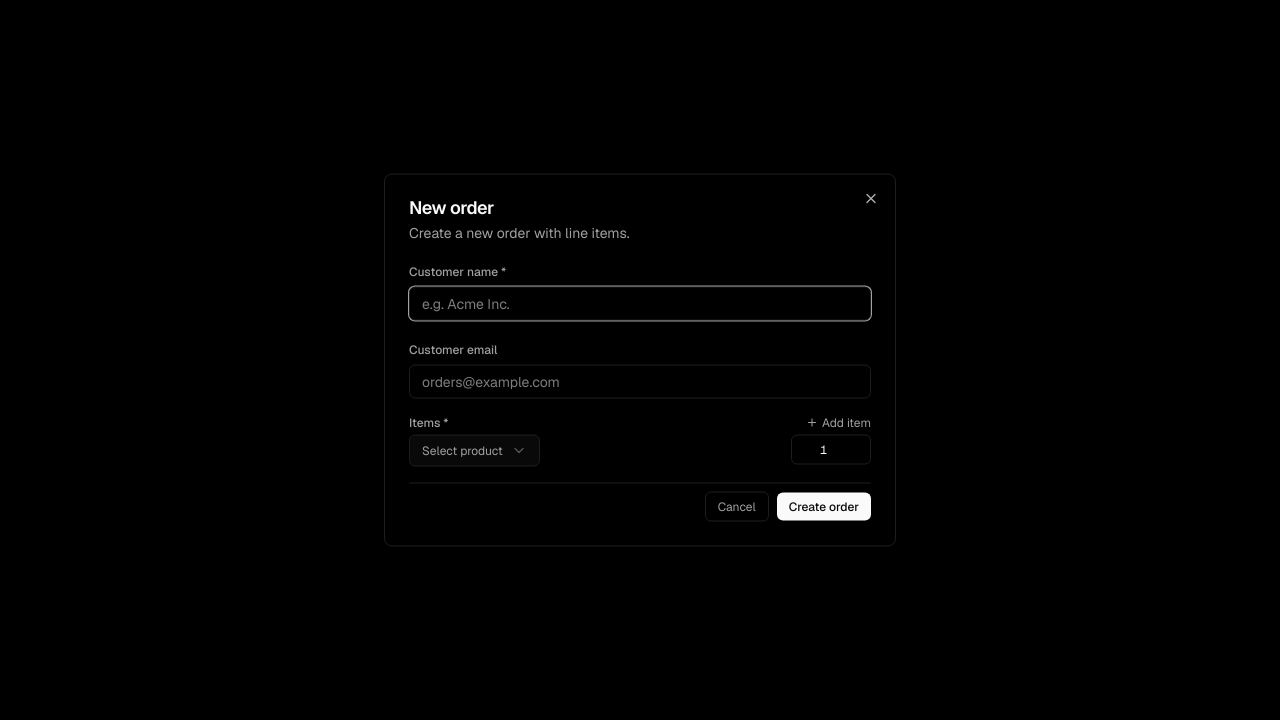
Test: OrderFormDialog › shows validation error for empty customer name
The image size is (1280, 720).
Click the button "Create order" at (824,506), box [777,492,871,520]
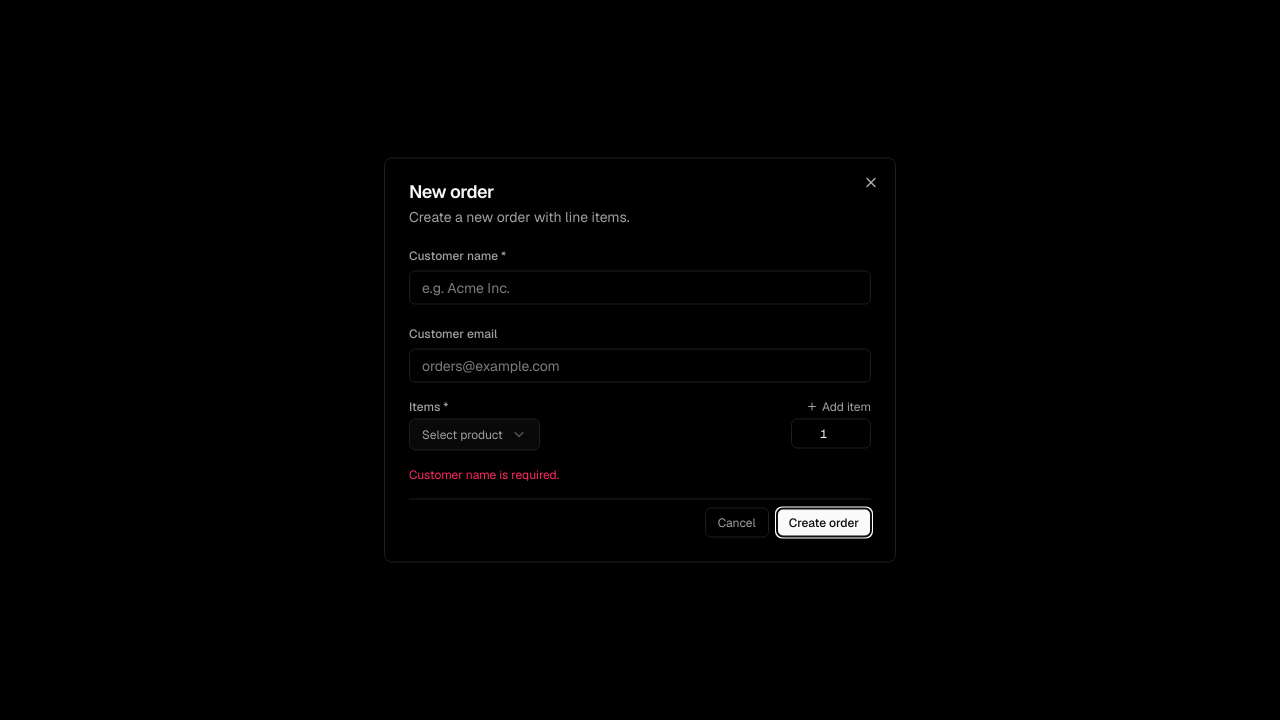
Check: the text "Customer name is required." is shown, box [409,466,559,482]
